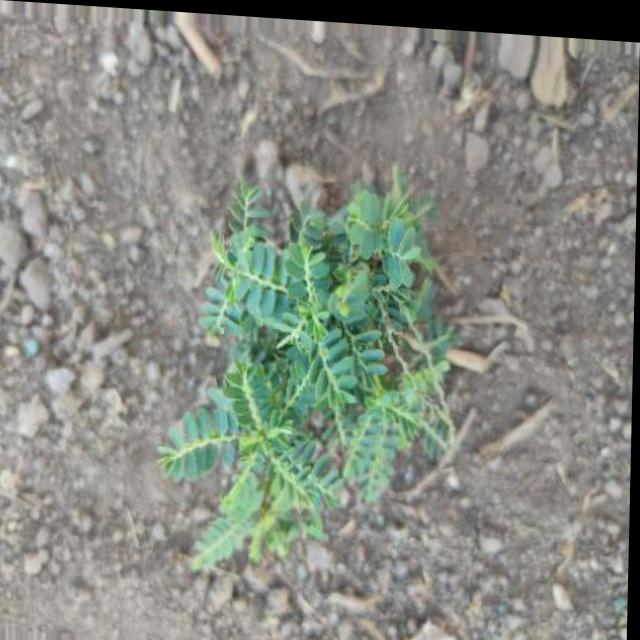weed: (142, 137, 475, 556)
